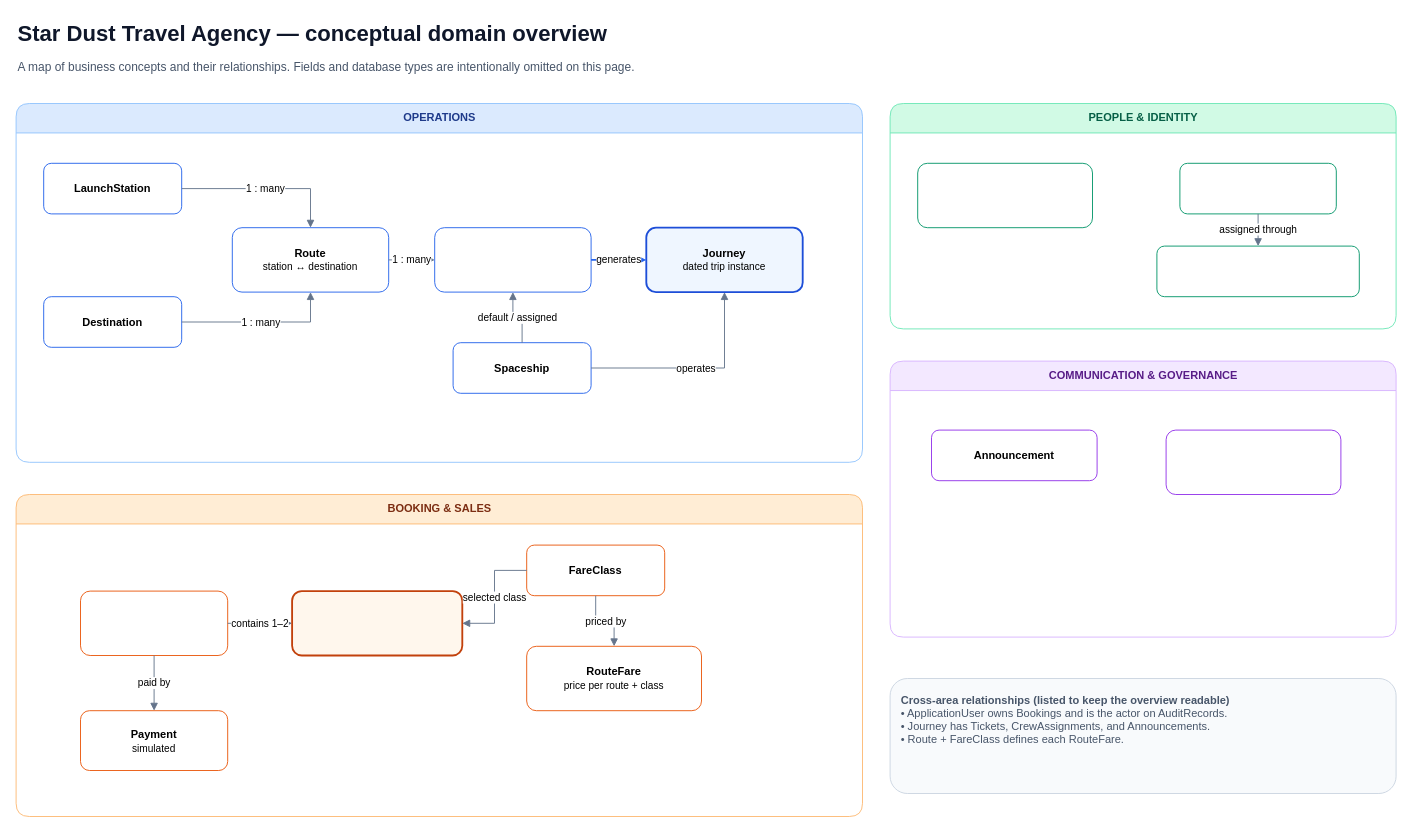
This 1412x833 diagram has some shape labels left out. The shapes that lost their labels are listed below. From the top down, each one's centre as x and y in pixels, then its label:
At (x=1004, y=195): "ApplicationUser linked by Keycloak subject".
At (x=1257, y=188): "CrewMember".
At (x=512, y=259): "WeeklySchedule repeating template".
At (x=1257, y=271): "JourneyCrewAssignment".
At (x=1253, y=461): "AuditRecord append-only history".
At (x=154, y=623): "Booking one purchase".
At (x=377, y=623): "Ticket one seat on one journey".
